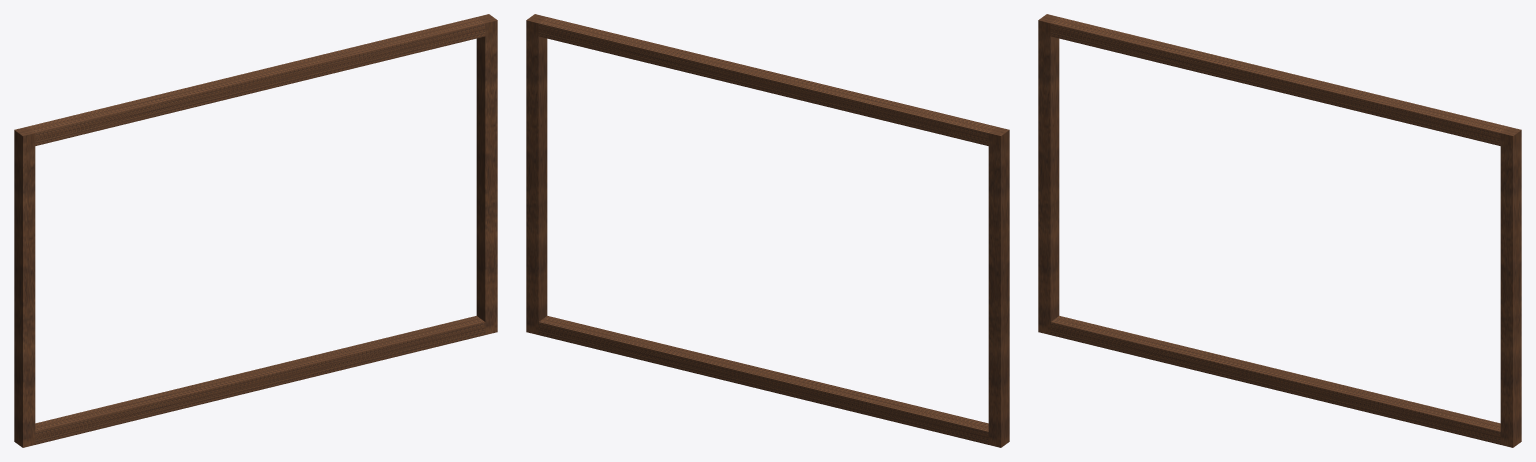
Rendered from painting_frame_landscape_01.glb.
3 renders of one model, left to right at view 1: azimuth 30°, elevation 25°; view 2: azimuth 150°, elevation 25°; view 3: azimuth 330°, elevation 25°, orthographic.
Visible parts, largest first — view 1: core_painting_frame_landscape_01; view 2: core_painting_frame_landscape_01; view 3: core_painting_frame_landscape_01.
Boxes of the visible parts, box(x1,y1,x2,y2) form: core_painting_frame_landscape_01: box(14, 14, 497, 447); core_painting_frame_landscape_01: box(526, 14, 1009, 447); core_painting_frame_landscape_01: box(1038, 14, 1521, 447).
Size of the model in its own units: 1.9 by 1.19 by 0.06.
Materials: 1 (1 with a texture image).
